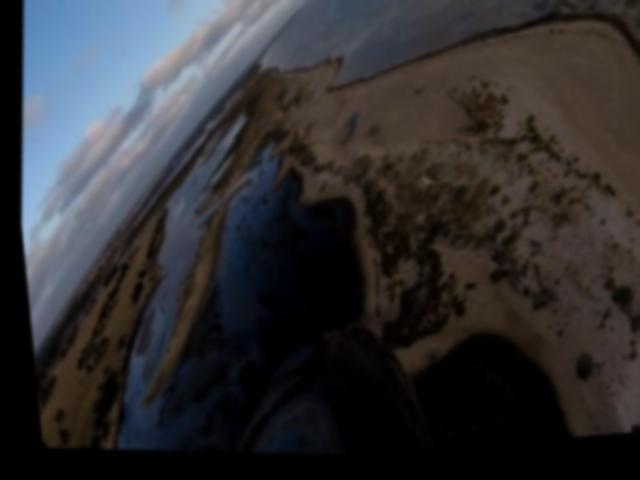uav: (411, 175, 438, 203)
